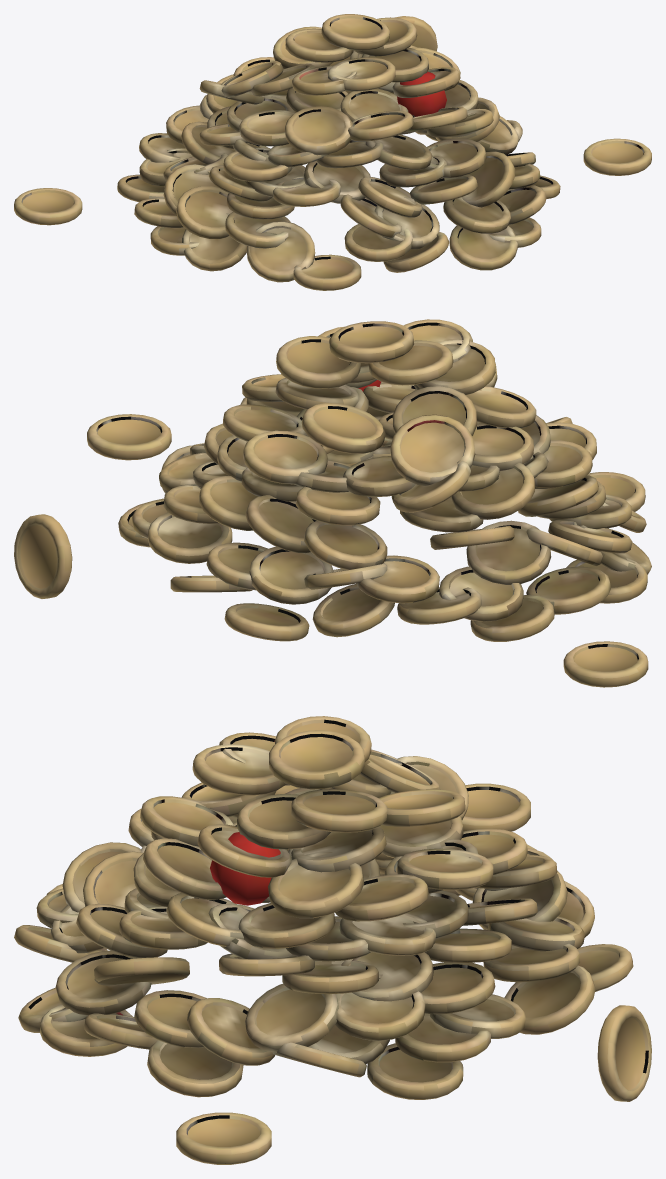
The model's file is gold.glb.
The picture shows the model from 3 angles, top to bottom: view 1: azimuth 30°, elevation 25°; view 2: azimuth 150°, elevation 25°; view 3: azimuth 270°, elevation 25°; orthographic projection. The views are drawn at different scales.
Visible parts, largest first — view 1: gold; view 2: gold; view 3: gold.
Boxes of the visible parts, x1,y1,x2,y2 form: gold: [14, 14, 651, 290]; gold: [14, 319, 651, 687]; gold: [14, 716, 651, 1164].
Size of the model in its own units: 0.3705 by 0.1181 by 0.2706.
Materials: 1 (1 with a texture image).
